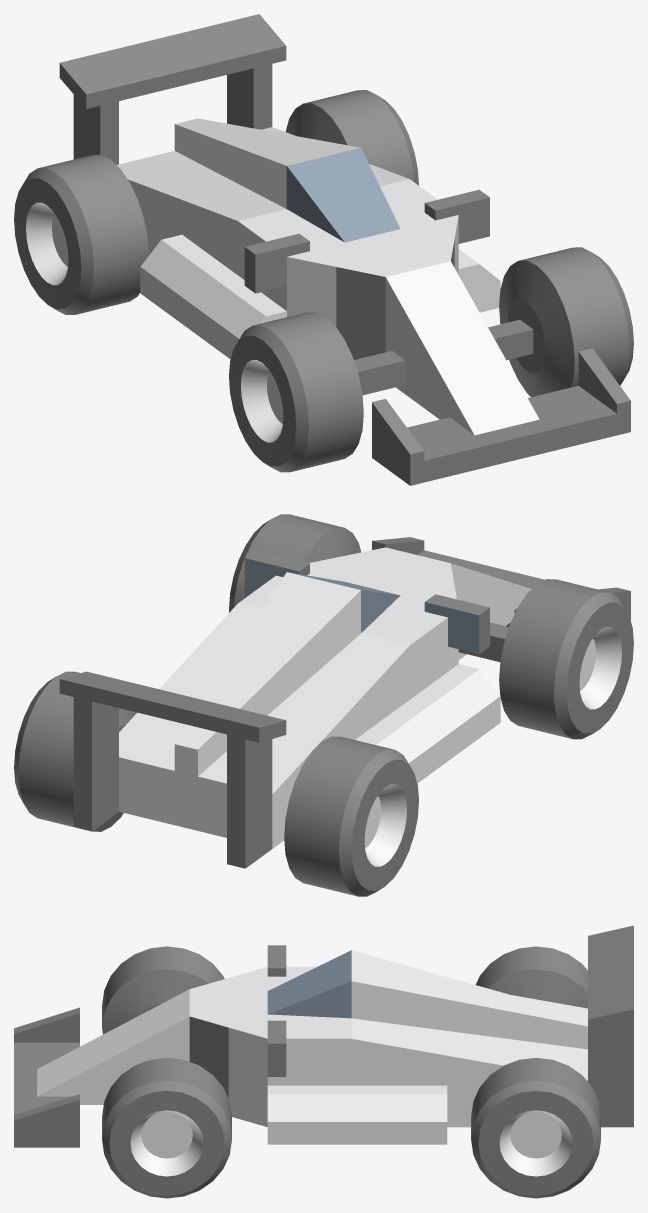
Rendered from raceCarWhite.glb.
3 views of the same model, one above another, from view 1: azimuth 30°, elevation 25°; view 2: azimuth 150°, elevation 25°; view 3: azimuth 270°, elevation 25° (orthographic). The views are drawn at different scales.
Parts seen in each view (by area): view 1: body, wheelFrontRight, wheelBackRight, wheelFrontLeft, wheelBackLeft; view 2: body, wheelBackRight, wheelFrontRight, wheelBackLeft, wheelFrontLeft; view 3: body, wheelBackLeft, wheelFrontLeft, wheelFrontRight, wheelBackRight.
Boxes of the visible parts, bbox=[...] form: body: bbox=[59, 14, 630, 485]; wheelFrontRight: bbox=[229, 312, 363, 472]; wheelBackRight: bbox=[14, 155, 148, 314]; wheelFrontLeft: bbox=[499, 247, 633, 397]; wheelBackLeft: bbox=[285, 90, 418, 185]; body: bbox=[59, 537, 630, 868]; wheelBackRight: bbox=[284, 736, 418, 896]; wheelFrontRight: bbox=[499, 579, 633, 739]; wheelBackLeft: bbox=[14, 671, 136, 831]; wheelFrontLeft: bbox=[229, 514, 360, 612]; body: bbox=[14, 925, 633, 1147]; wheelBackLeft: bbox=[471, 1057, 600, 1198]; wheelFrontLeft: bbox=[102, 1057, 231, 1198]; wheelFrontRight: bbox=[102, 946, 224, 1034]; wheelBackRight: bbox=[476, 946, 587, 1008].
Size of the model in its own units: 0.7288 by 0.397 by 1.35.
Materials: 1 (1 with a texture image).
